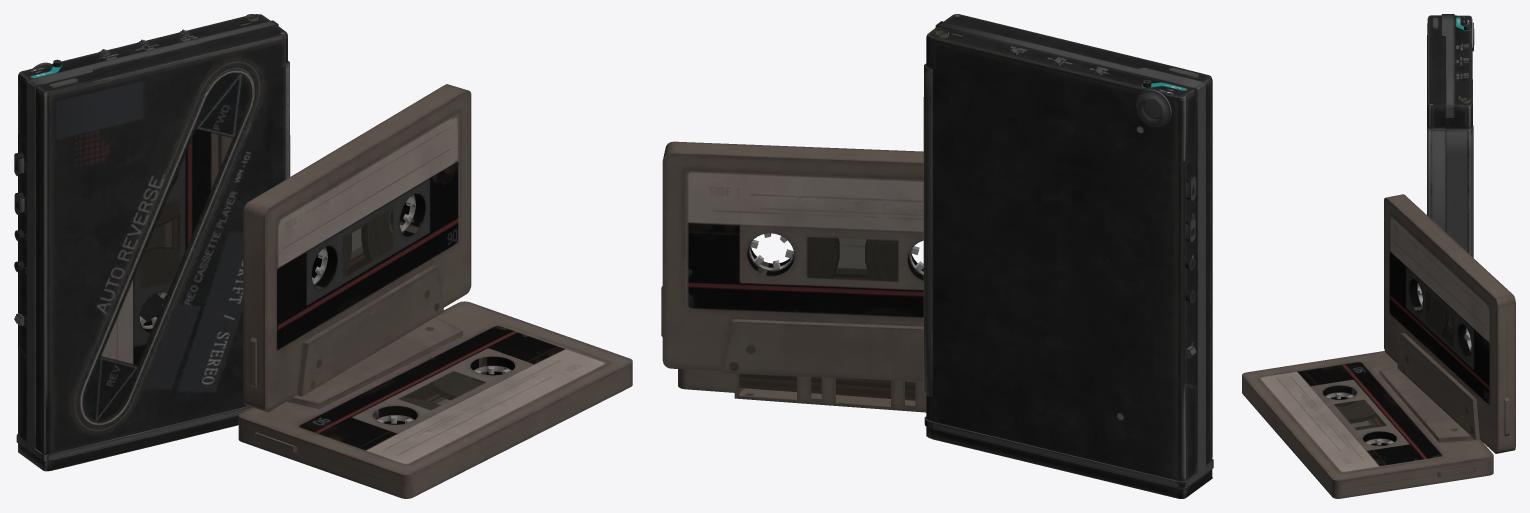
Rendered from retro_walkman.glb.
3 views of the same model, side by side, from view 1: azimuth 30°, elevation 25°; view 2: azimuth 150°, elevation 25°; view 3: azimuth 270°, elevation 25° (orthographic). The views are drawn at different scales.
Visible parts, largest first — view 1: Object_3, Object_4; view 2: Object_4, Object_3; view 3: Object_3, Object_4.
Part boxes in pixels (left/top/right/bottom): Object_3: left=101, top=84, right=632, bottom=498; Object_4: left=14, top=14, right=290, bottom=471; Object_4: left=923, top=14, right=1213, bottom=498; Object_3: left=661, top=141, right=926, bottom=412; Object_3: left=1242, top=194, right=1515, bottom=498; Object_4: left=1427, top=14, right=1474, bottom=257.
Bounding box in the file's own units: 12.34 × 8.52 × 7.18.
2 materials, 2 textured.
